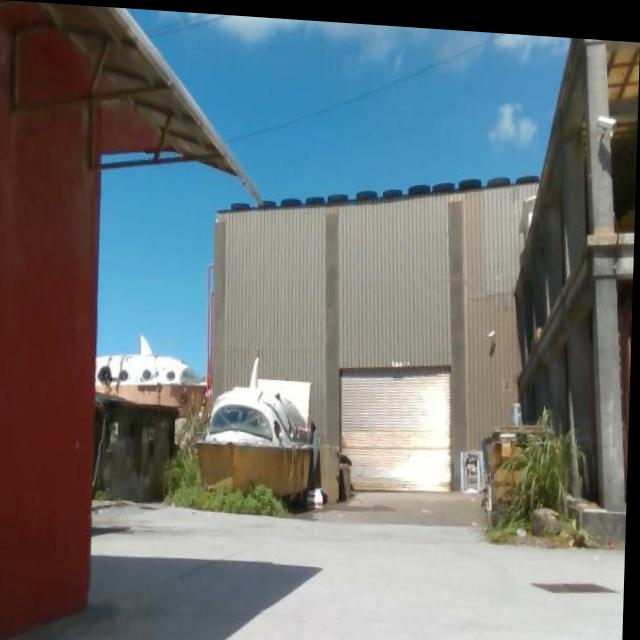pollute: (462, 394, 548, 526), (305, 435, 355, 507)
